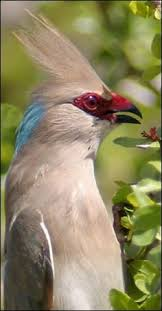target: (6, 5, 143, 309)
